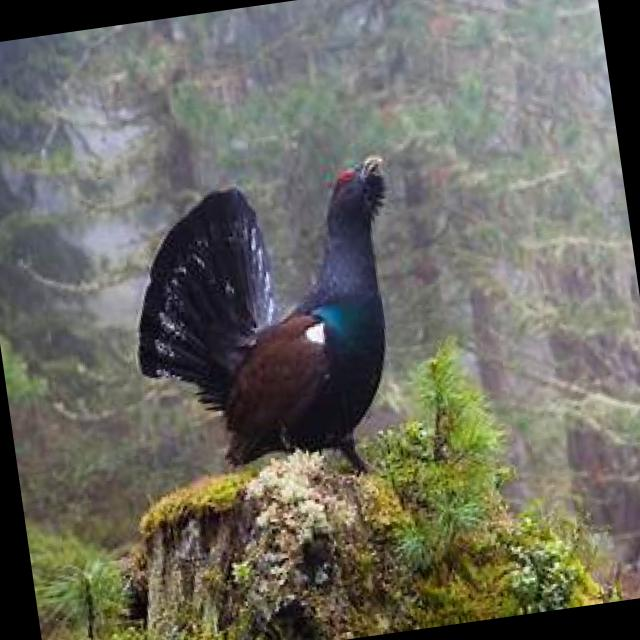chicken: (116, 150, 422, 496)
